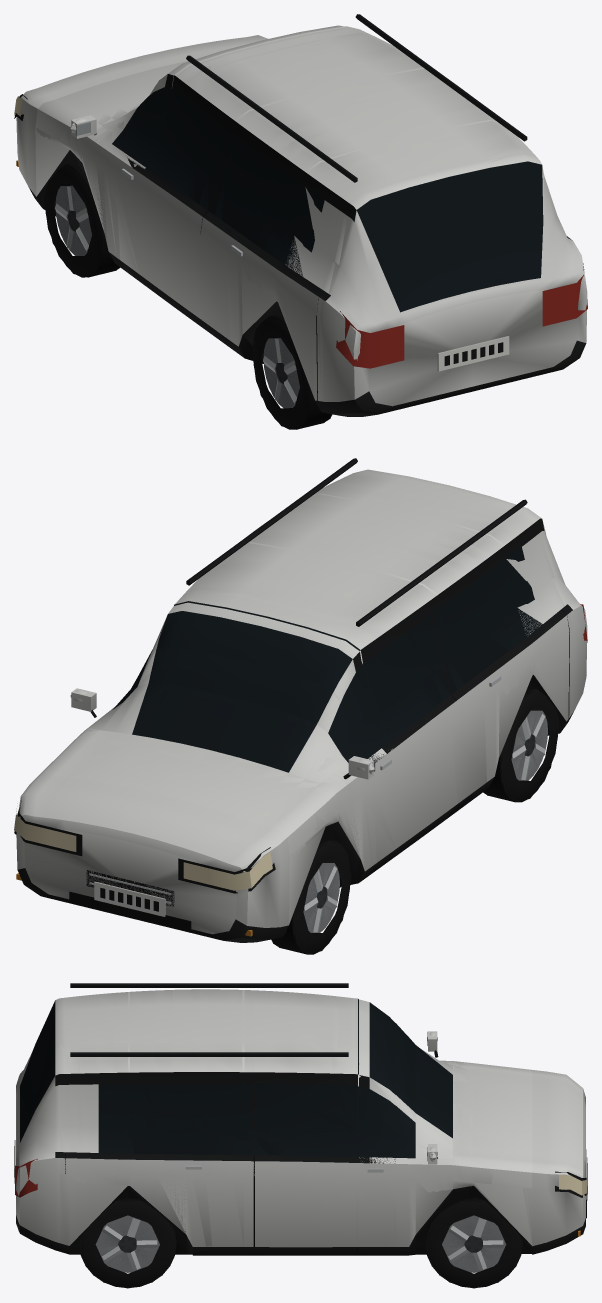
File: suv.glb
3 views of the same model, one above another, from view 1: azimuth 30°, elevation 25°; view 2: azimuth 150°, elevation 25°; view 3: azimuth 270°, elevation 25° (orthographic). The views are drawn at different scales.
Visible parts, largest first — view 1: near, far, distant; view 2: near, distant, far; view 3: near, distant, far.
Boxes of the visible parts, box(x1,y1,x2,y2) form: near: box(14, 14, 587, 429); far: box(38, 33, 585, 429); distant: box(35, 26, 497, 425); near: box(14, 458, 587, 954); distant: box(38, 493, 567, 950); far: box(16, 473, 573, 954); near: box(14, 983, 587, 1287); distant: box(69, 990, 532, 1276); far: box(16, 989, 585, 1288).
Bounding box in the file's own units: 2.15 × 1.79 × 4.23.
